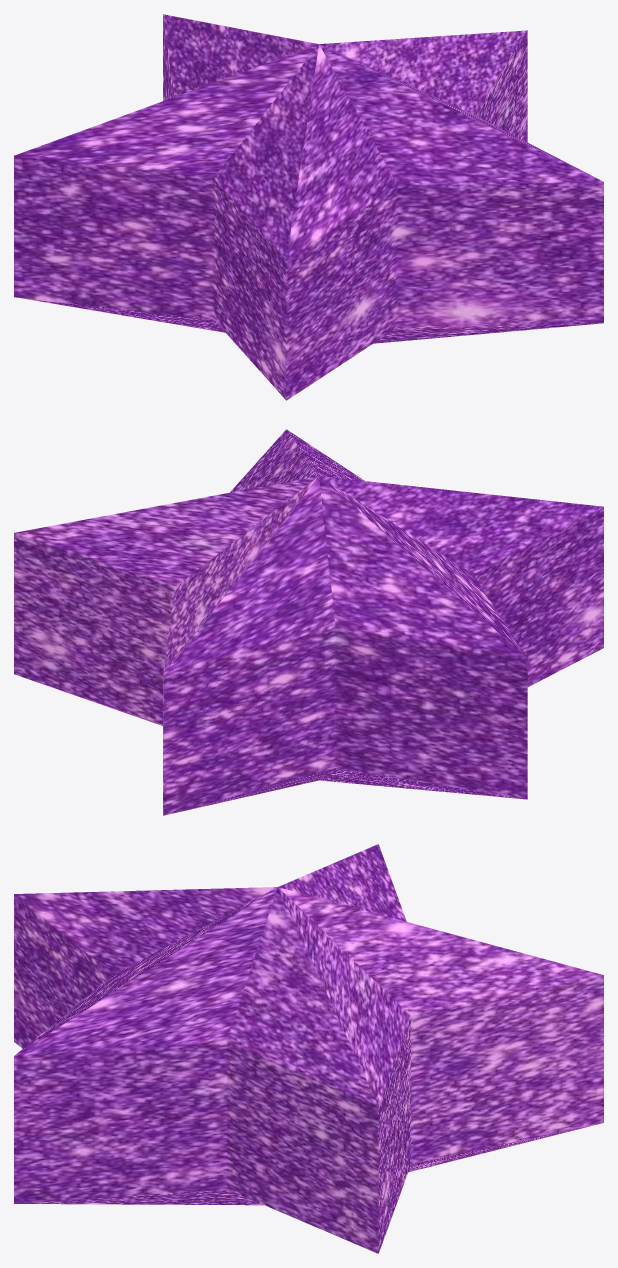
The model's file is starpurple.glb.
The picture shows the model from 3 angles, top to bottom: view 1: azimuth 30°, elevation 25°; view 2: azimuth 150°, elevation 25°; view 3: azimuth 270°, elevation 25°; orthographic projection. The views are drawn at different scales.
Parts seen in each view (by area): view 1: Cylinder.002; view 2: Cylinder.002; view 3: Cylinder.002.
Boxes of the visible parts, x1=… form: Cylinder.002: x1=14, y1=14, x2=603, y2=400; Cylinder.002: x1=14, y1=429, x2=603, y2=815; Cylinder.002: x1=14, y1=844, x2=603, y2=1253.
Bounding box in the file's own units: 1.9 × 1.08 × 1.81.
1 material, 1 textured.
